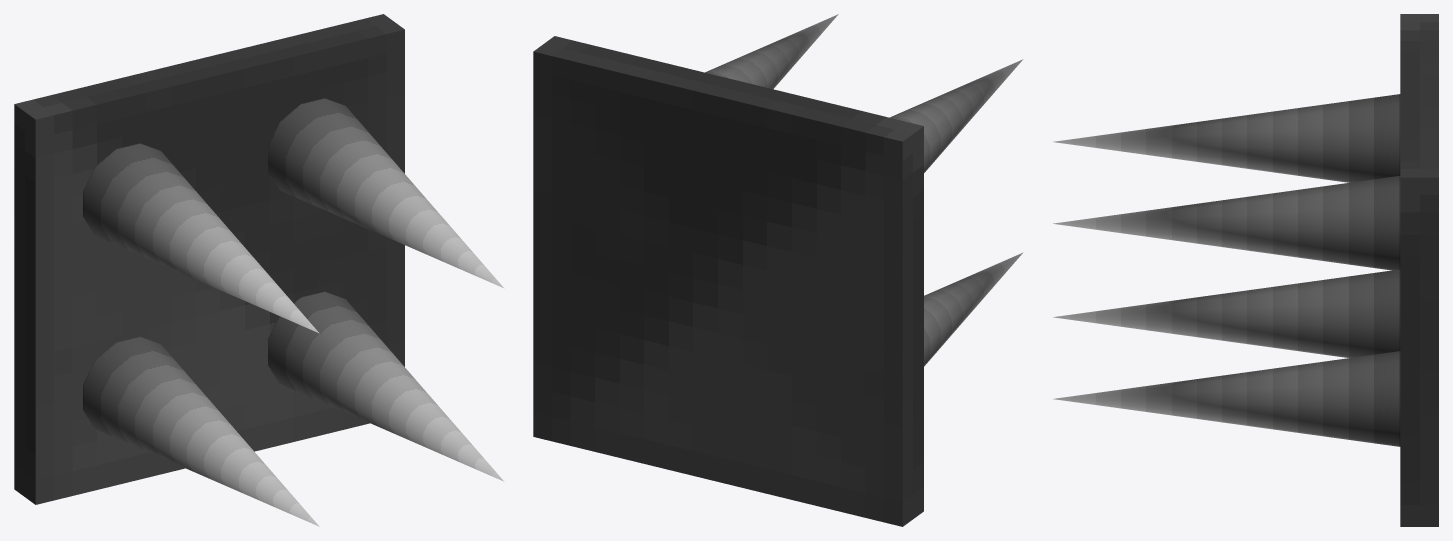
Rendered from vent-spikes.glb.
3 renders of one model, left to right at view 1: azimuth 30°, elevation 25°; view 2: azimuth 150°, elevation 25°; view 3: azimuth 270°, elevation 25°, orthographic. The views are drawn at different scales.
Parts seen in each view (by area): view 1: spikes-box, spikes-points; view 2: spikes-box, spikes-points; view 3: spikes-points, spikes-box.
Boxes of the visible parts, box(x1,y1,x2,y2) form: spikes-box: box(14, 14, 404, 504); spikes-points: box(83, 98, 504, 526); spikes-box: box(533, 36, 923, 526); spikes-points: box(705, 14, 1023, 366); spikes-points: box(1053, 94, 1400, 446); spikes-box: box(1400, 14, 1438, 526).
Bounding box in the file's own units: 1 × 0.9967 × 1.
1 material, 1 textured.
